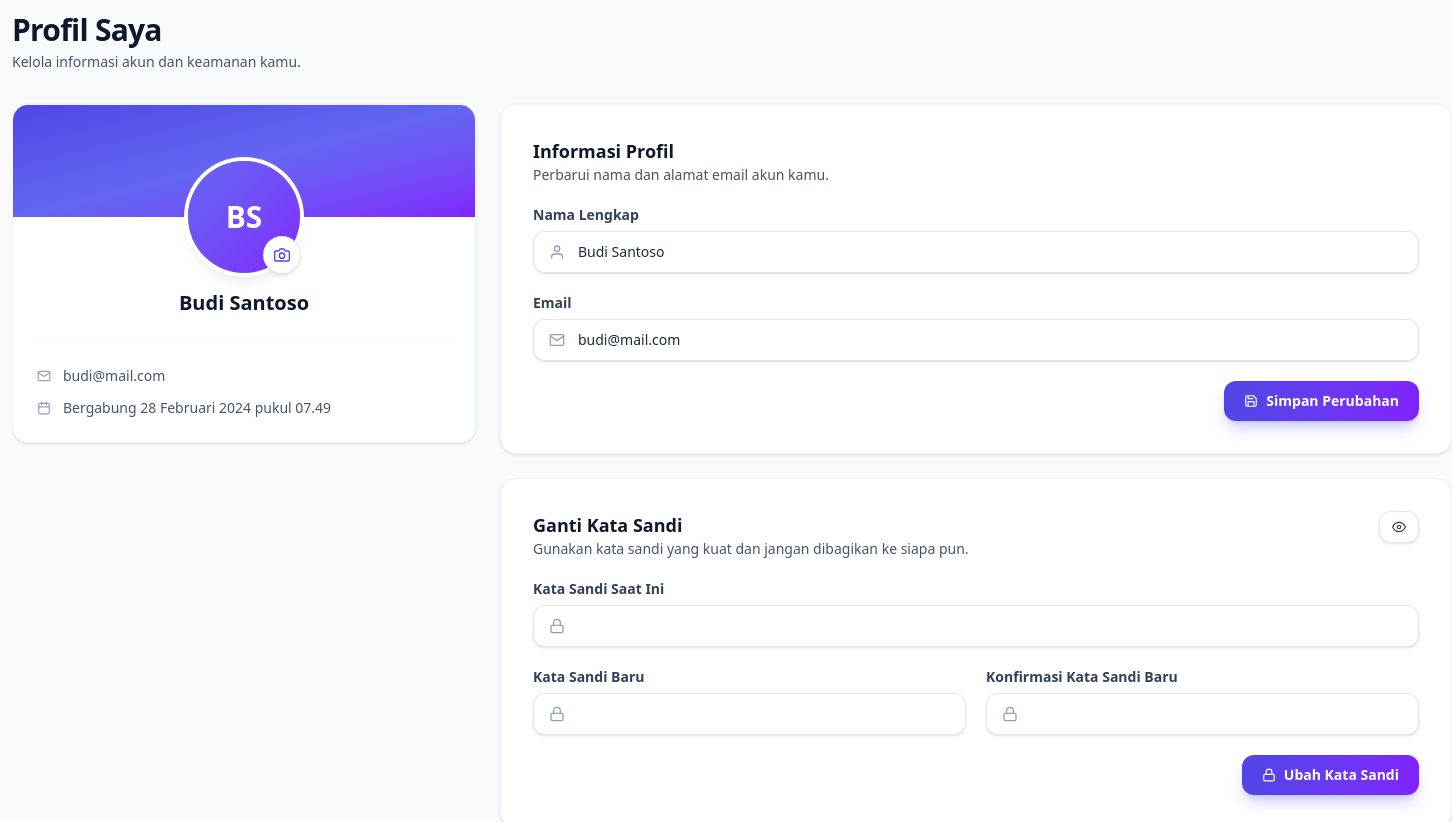
Test: ProfilePage › ganti kata sandi › menolak sandi baru yang terlalu pendek dan konfirmasi yang berbeda
Step 1. Type "lama123" into the password field labelled "Kata Sandi Saat Ini" → [976, 626], box [533,605,1419,647]
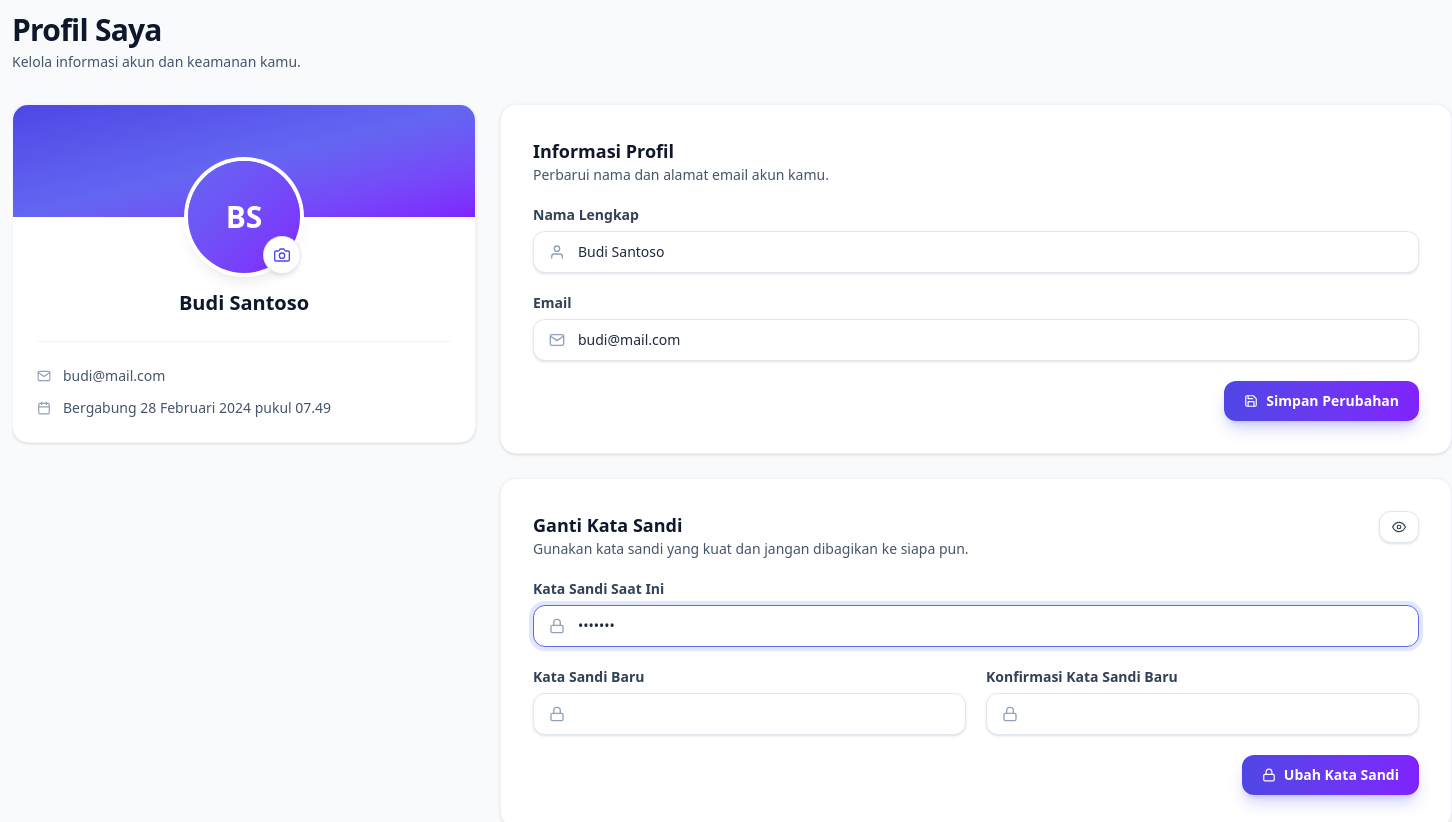
Step 2. Type "123" into the password field labelled "Kata Sandi Baru" → [750, 714], box [533,693,966,735]
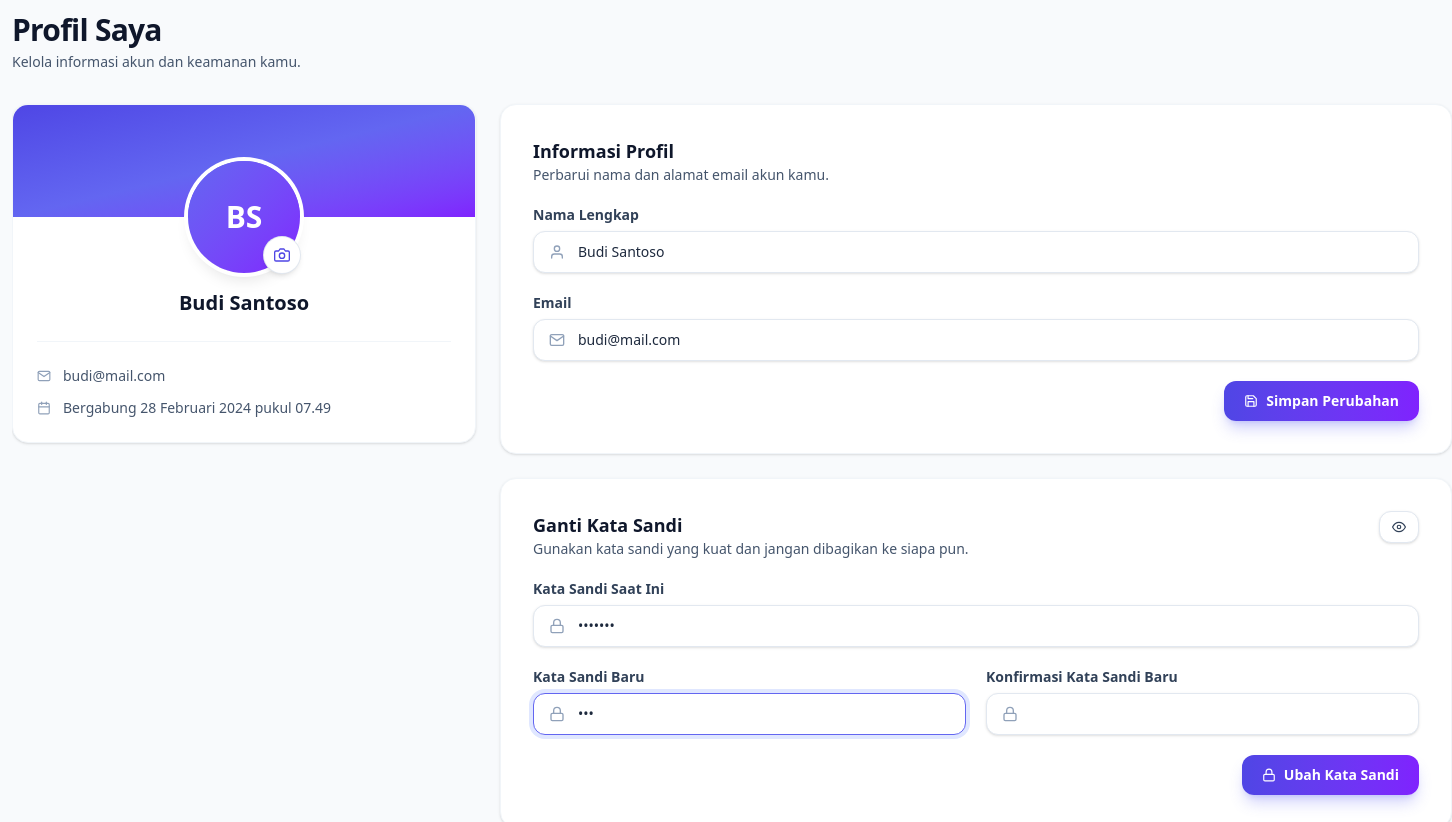
Step 3. Type "456" into the password field labelled "Konfirmasi Kata Sandi Baru" → [1202, 714], box [986,693,1419,735]
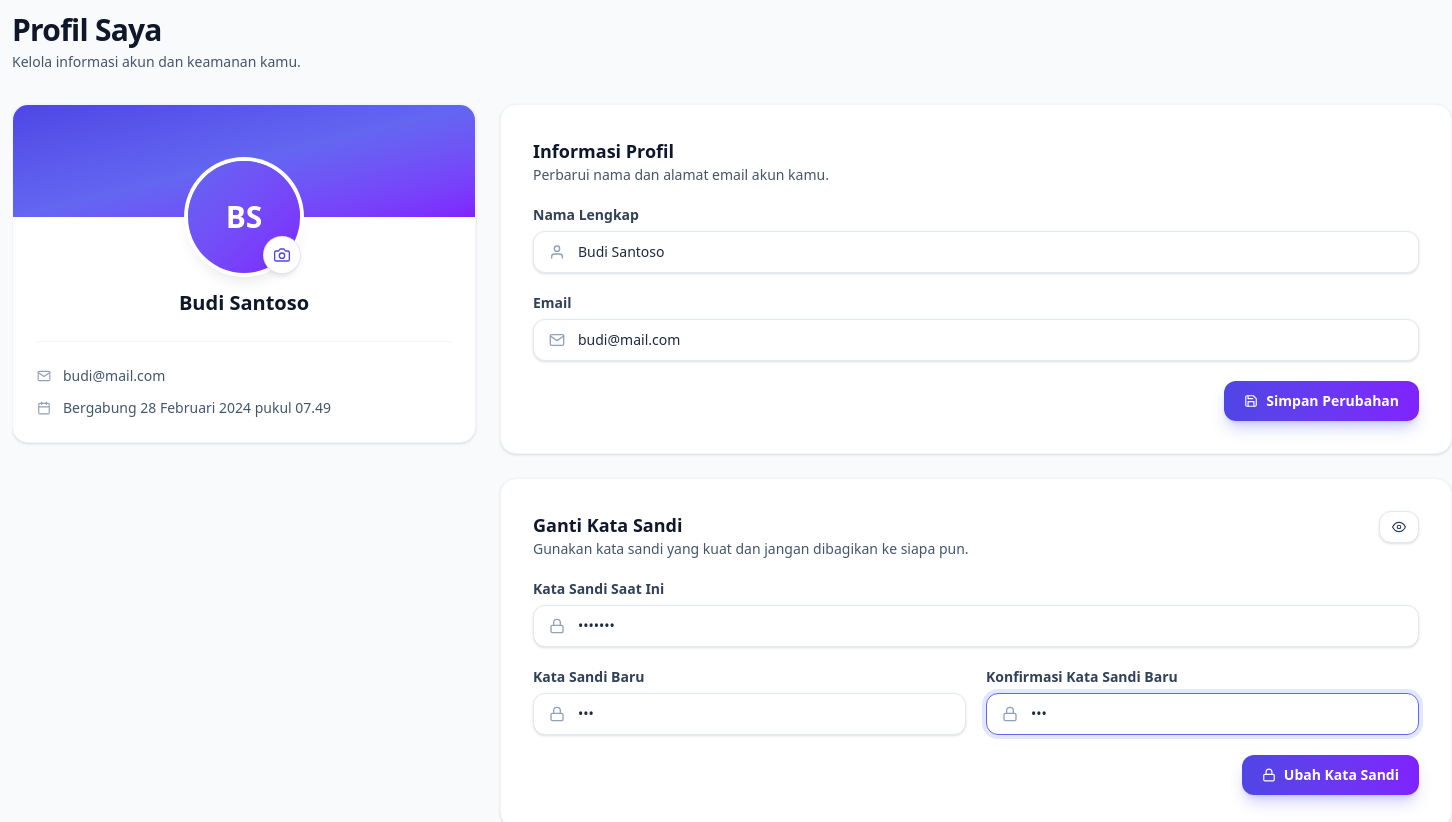
Step 4. Click the button "Ubah Kata Sandi" → [1330, 775], box [1242,755,1419,795]
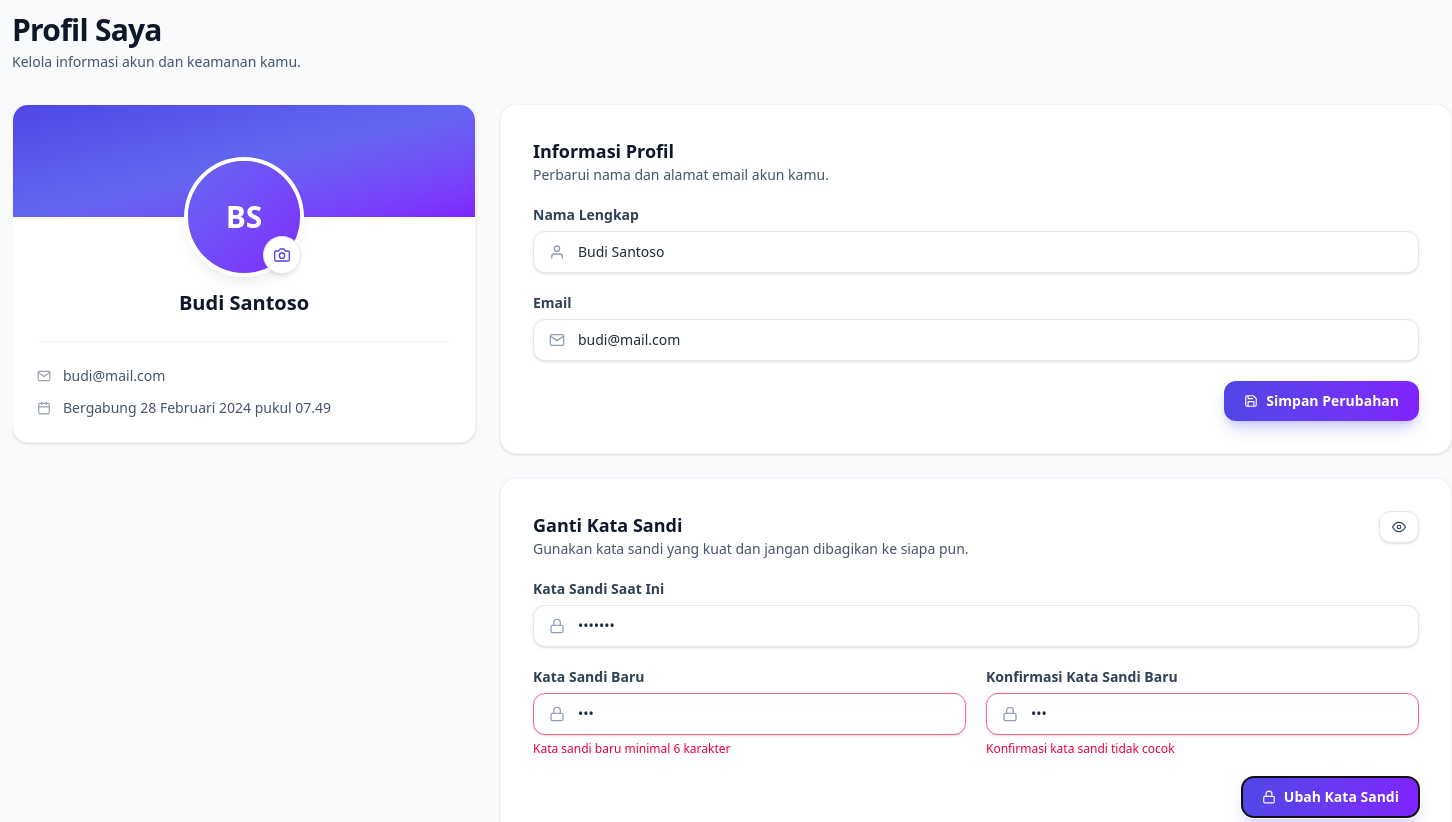
expect the text "Kata sandi baru minimal 6 karakter" is shown: met, box [533,740,730,757]
expect the text "Konfirmasi kata sandi tidak cocok" is shown: met, box [986,740,1174,757]
